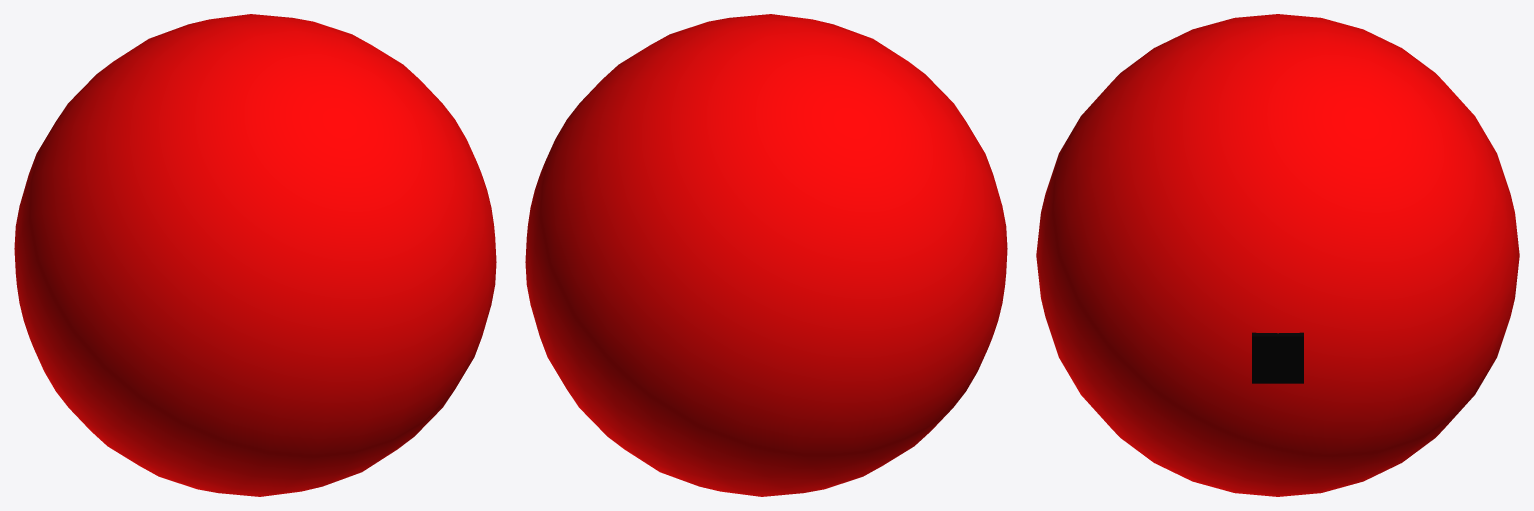
Rendered from SM_Eye.FBX.
The picture shows the model from 3 angles, left to right: view 1: azimuth 30°, elevation 25°; view 2: azimuth 150°, elevation 25°; view 3: azimuth 270°, elevation 25°; orthographic projection.
Visible parts, largest first — view 1: Sphere001; view 2: Sphere001; view 3: Sphere001.
Boxes of the visible parts, left/top/right/bottom form: Sphere001: left=14, top=14, right=496, bottom=496; Sphere001: left=525, top=14, right=1007, bottom=496; Sphere001: left=1036, top=14, right=1519, bottom=496.
Size of the model in its own units: 156 by 155 by 155.
